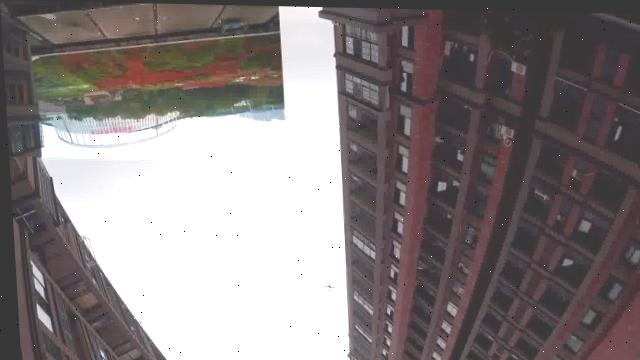drone: (319, 279, 335, 292)
